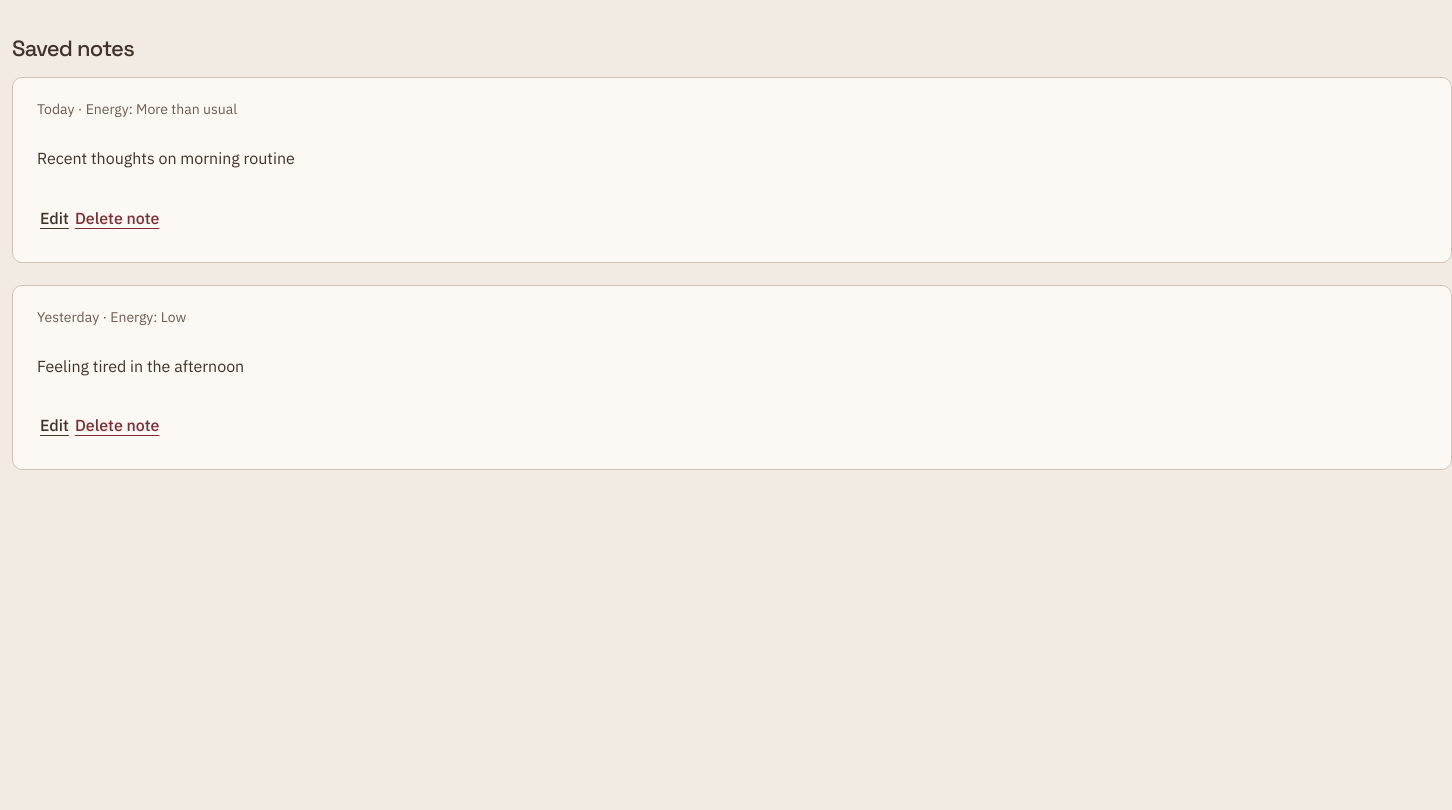
Test case: Notes UI component › clicking Delete note displays the confirmation prompt
Click the button "Delete note" below "Today" at (117, 219), box [72, 196, 162, 242]
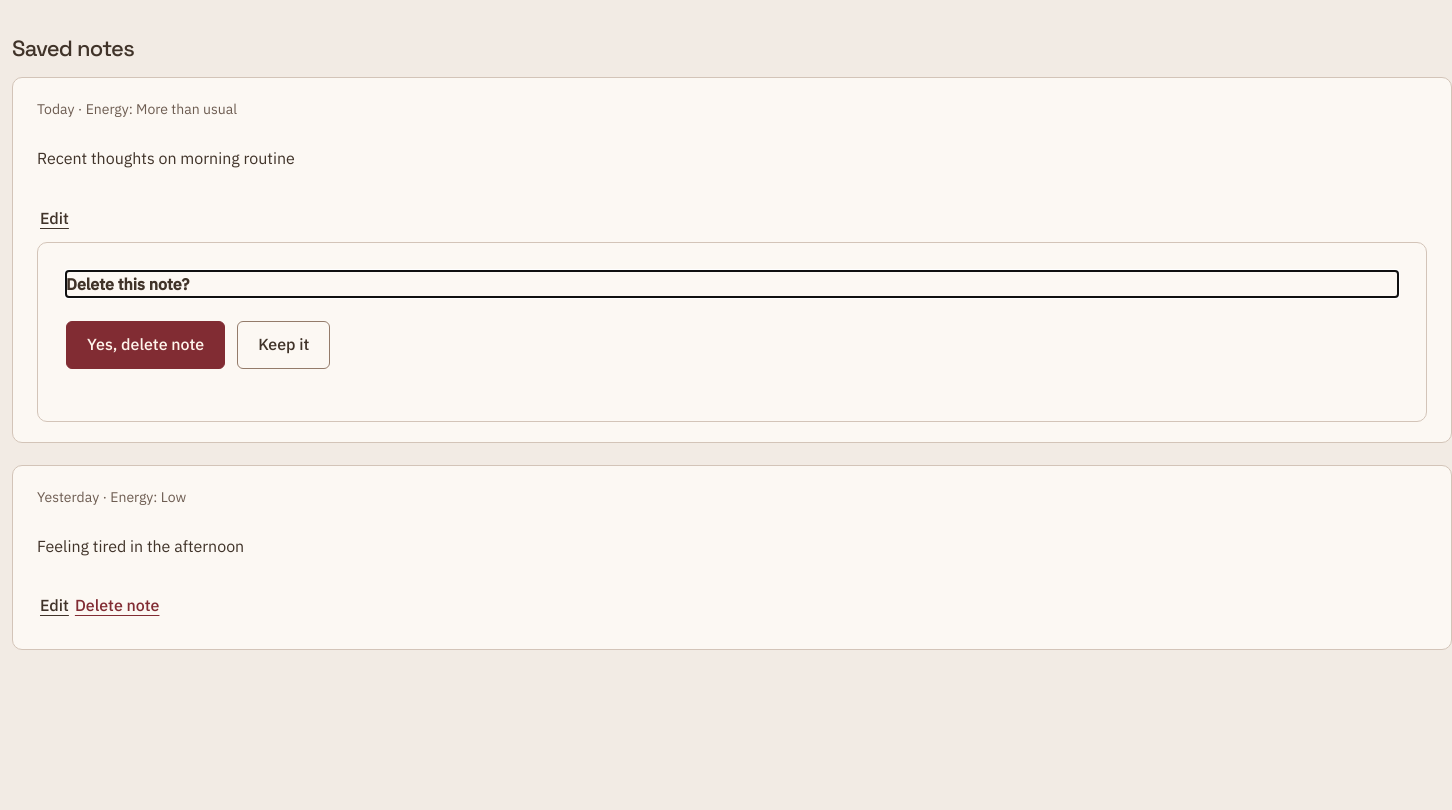
Expected: the text "Delete this note?" is shown, [66, 274, 189, 294]
Expected: the button "Yes, delete note" is shown, [66, 321, 225, 369]
Expected: the button "Keep it" is shown, [237, 321, 330, 369]
